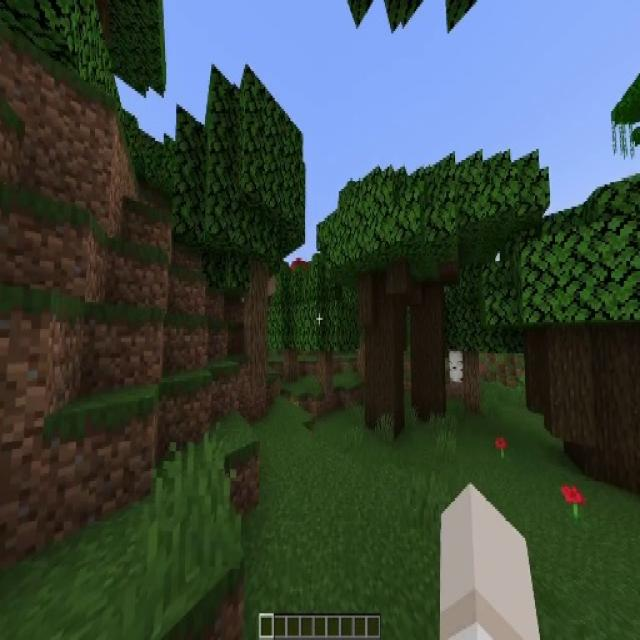birch_log: (448, 351, 463, 384)
dark_oak: (508, 144, 640, 488), (379, 148, 488, 420), (338, 164, 437, 436)
dark_oak_log: (535, 338, 640, 481), (362, 273, 404, 432), (413, 285, 445, 415)
oak: (182, 63, 308, 390)
oak_log: (247, 263, 267, 397), (463, 352, 479, 408), (318, 352, 332, 398), (285, 353, 297, 383)
